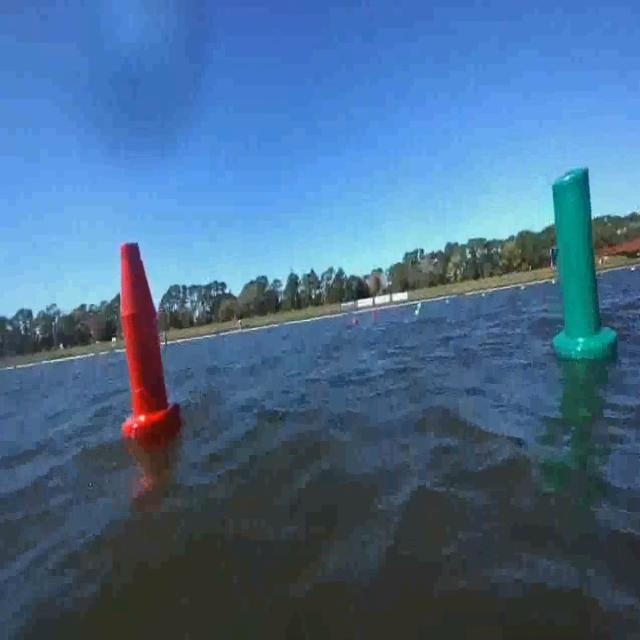green-column-buoy: (549, 168, 616, 364)
red-column-buoy: (120, 239, 184, 446)
